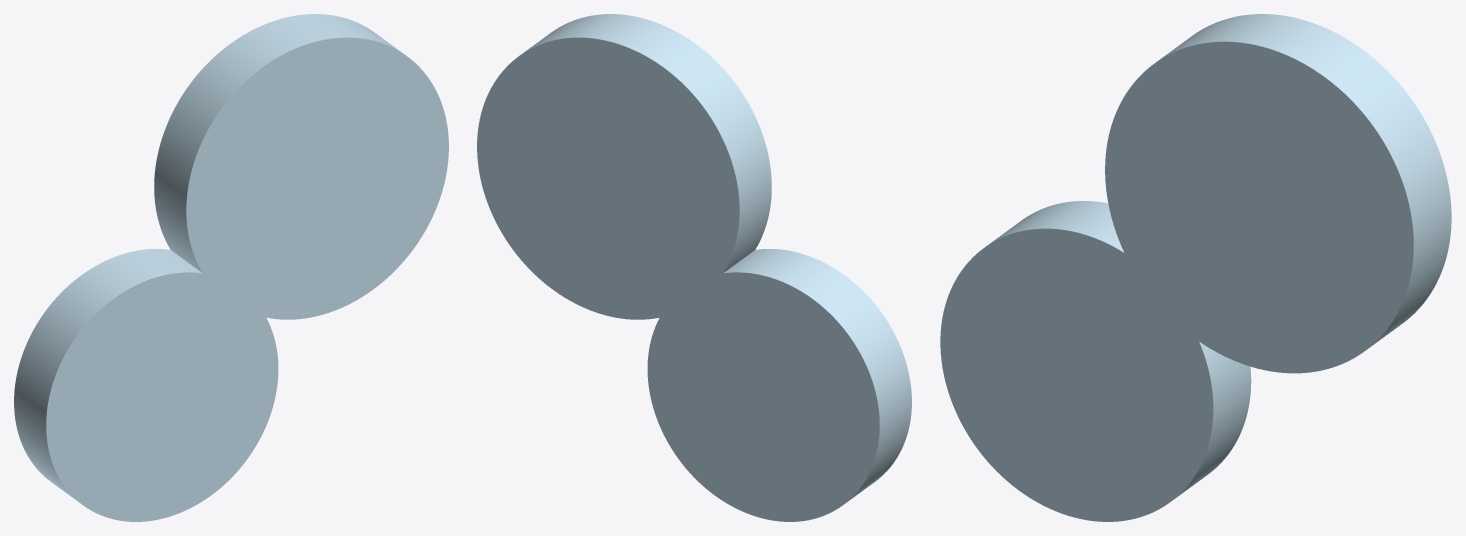
File: studio2.gltf
3 views of the same model, side by side, from view 1: azimuth 30°, elevation 25°; view 2: azimuth 150°, elevation 25°; view 3: azimuth 330°, elevation 25° (orthographic). The views are drawn at different scales.
Parts seen in each view (by area): view 1: Part 1; view 2: Part 1; view 3: Part 1.
Boxes of the visible parts, x1,y1,x2,y2 form: Part 1: (14,14,448,521); Part 1: (477,14,911,521); Part 1: (940,14,1451,521).
Size of the model in its own units: 0.1807 by 0.1884 by 0.025.
